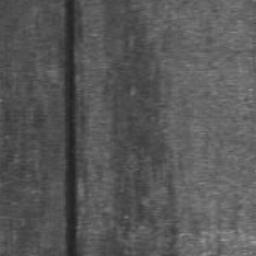Scratches: (64, 0, 78, 256)
